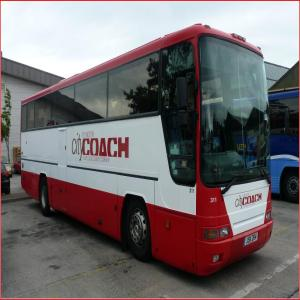Vehicle-registration-plate: (244, 234, 259, 247)
